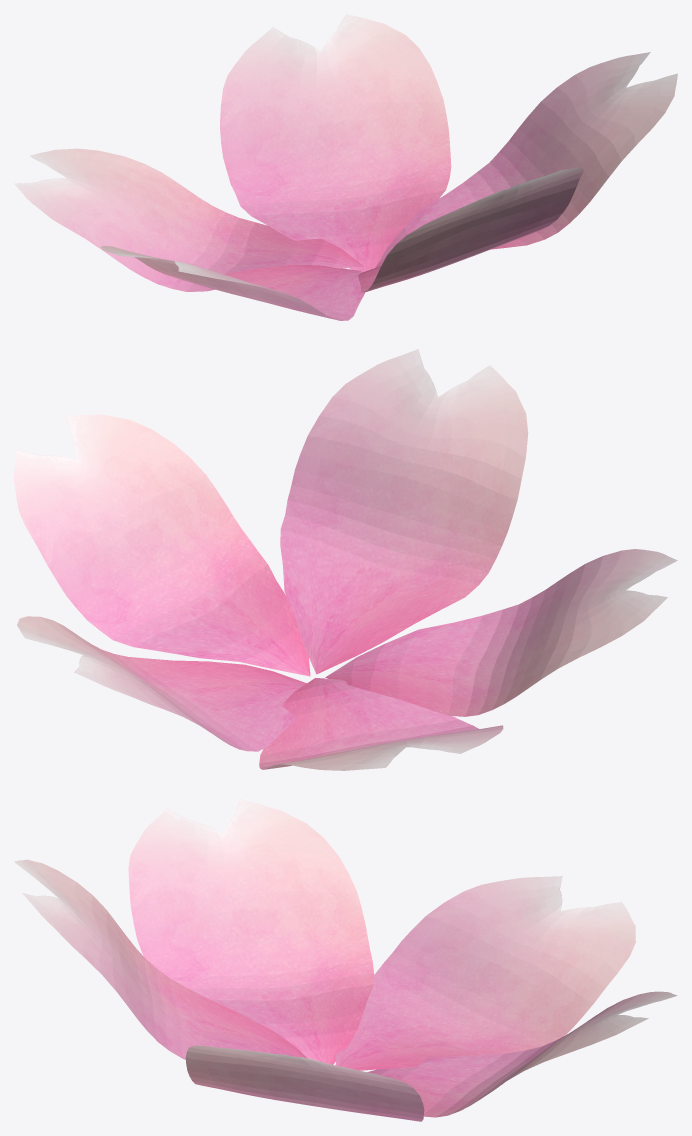
The model's file is kirschbluede_full_1.glb.
3 renders of one model, top to bottom at view 1: azimuth 30°, elevation 25°; view 2: azimuth 150°, elevation 25°; view 3: azimuth 270°, elevation 25°, orthographic. The views are drawn at different scales.
Parts seen in each view (by area): view 1: Plane.004, Plane.003, Plane.001, Plane, Plane.002; view 2: Plane, Plane.001, Plane.002, Plane.004, Plane.003; view 3: Plane.002, Plane.003, Plane, Plane.001, Plane.004.
Part boxes in pixels (x1=…): Plane.004: x1=220, y1=14, x2=451, y2=272; Plane.003: x1=14, y1=148, x2=363, y2=291; Plane.001: x1=375, y1=52, x2=677, y2=267; Plane: x1=358, y1=168, x2=583, y2=292; Plane.002: x1=100, y1=246, x2=364, y2=320; Plane: x1=280, y1=349, x2=528, y2=674; Plane.001: x1=14, y1=414, x2=310, y2=676; Plane.002: x1=325, y1=549, x2=677, y2=716; Plane.004: x1=17, y1=616, x2=306, y2=751; Plane.003: x1=259, y1=678, x2=503, y2=770; Plane.002: x1=128, y1=799, x2=374, y2=1064; Plane.003: x1=335, y1=876, x2=635, y2=1070; Plane: x1=14, y1=859, x2=307, y2=1059; Plane.001: x1=185, y1=1045, x2=424, y2=1121; Plane.004: x1=367, y1=991, x2=677, y2=1117.
Bounding box in the file's own units: 5.54 × 1.88 × 5.19.
1 material, 1 textured.
